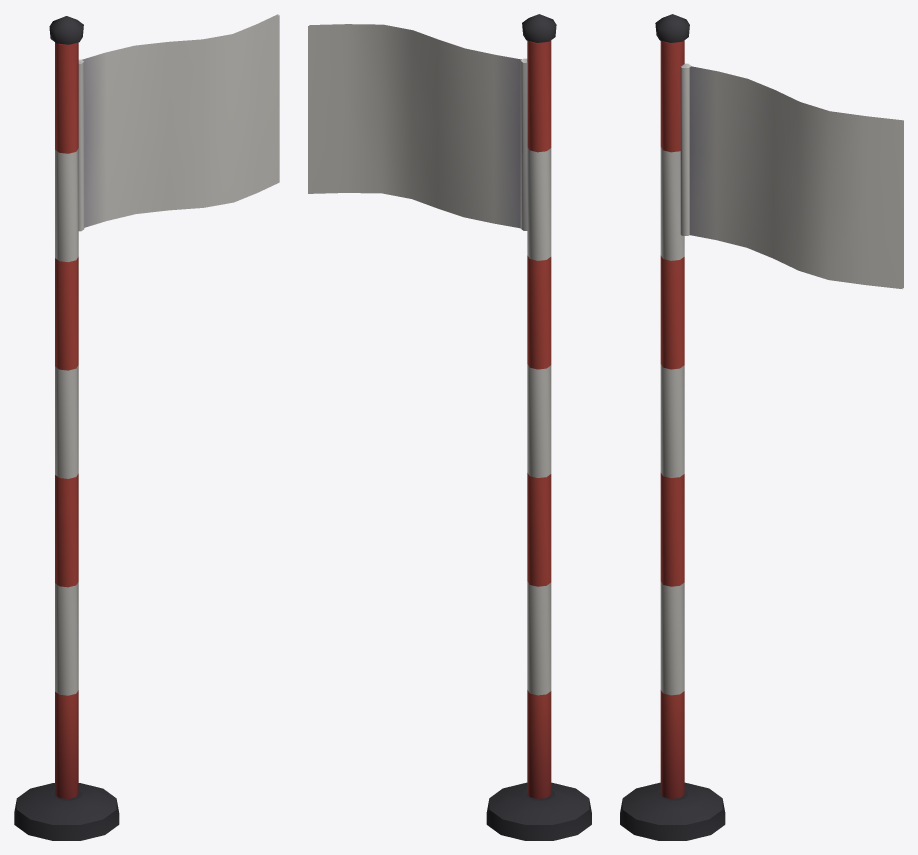
File: SlalomFlag.fbx
3 renders of one model, left to right at view 1: azimuth 30°, elevation 25°; view 2: azimuth 150°, elevation 25°; view 3: azimuth 330°, elevation 25°, orthographic.
Parts seen in each view (by area): view 1: Flag, SlalomFlag; view 2: Flag, SlalomFlag; view 3: Flag, SlalomFlag.
Part boxes in pixels (x1,y1,x2,y2): Flag: (78,14,279,231); SlalomFlag: (14,16,119,840); Flag: (308,24,527,230); SlalomFlag: (486,14,591,840); Flag: (680,63,903,289); SlalomFlag: (620,14,725,840).
Bounding box in the file's own units: 0.5666 × 1.63 × 0.1932.
